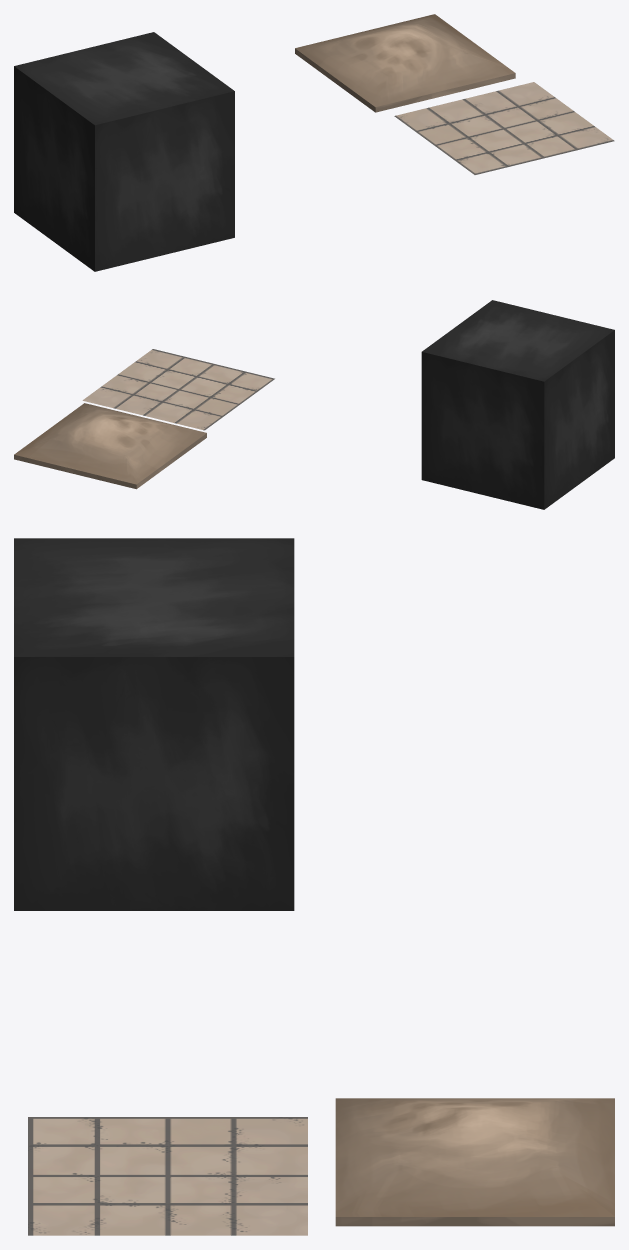
The model's file is murs2.FBX.
The picture shows the model from 3 angles, top to bottom: view 1: azimuth 30°, elevation 25°; view 2: azimuth 150°, elevation 25°; view 3: azimuth 270°, elevation 25°; orthographic projection. The views are drawn at different scales.
Visible parts, largest first — view 1: cube, mur 1, Plane001; view 2: cube, mur 1, Plane001; view 3: cube, mur 1, Plane001.
Boxes of the visible parts, x1,y1,x2,y2 form: cube: [14, 32, 234, 271]; mur 1: [295, 14, 515, 112]; Plane001: [394, 82, 614, 174]; cube: [421, 300, 614, 509]; mur 1: [14, 403, 206, 489]; Plane001: [82, 349, 274, 430]; cube: [14, 538, 294, 910]; mur 1: [335, 1098, 614, 1226]; Plane001: [28, 1117, 307, 1235].
Bounding box in the file's own units: 374 × 214 × 100.
